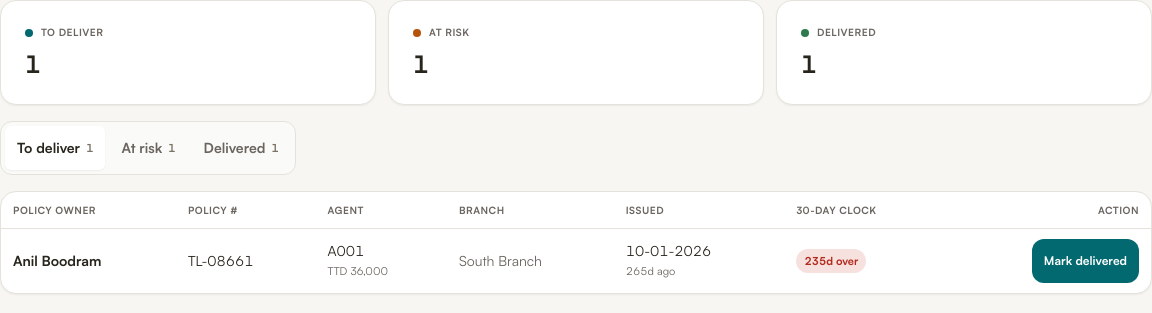
Test: DeliveryRegisterPanel — register split › switching to the Delivered filter shows delivered policies only
This screenshot has width=1152, height=313.
Check: the text "Anil Boodram" is shown, box [13,252,101,269]
Click the tab "Delivered 1" at (241, 148), box [192,126,291,170]
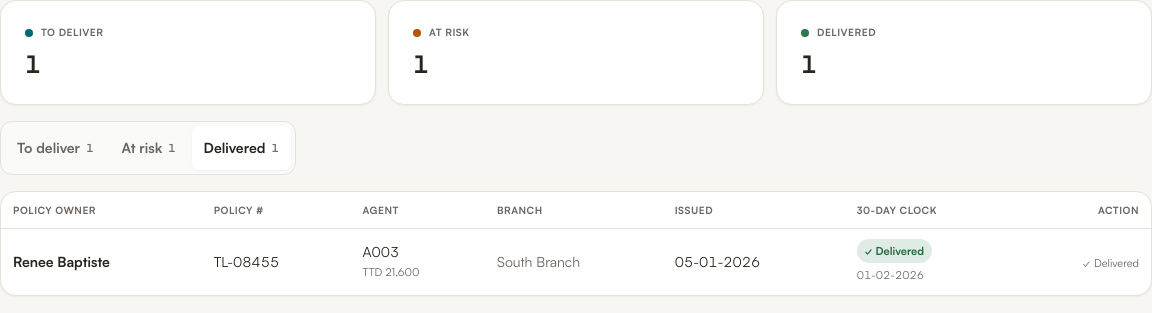
Check: the text "Renee Baptiste" is shown, box [13,253,110,270]
Check: the text "Anil Boodram" is gone
